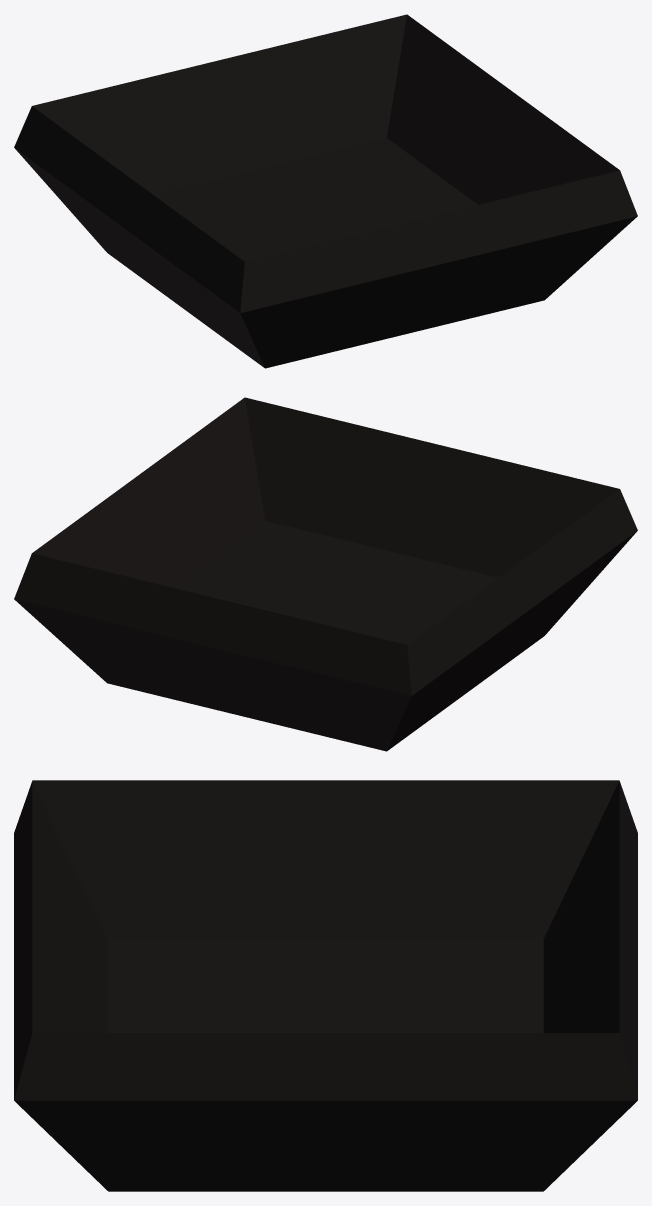
Rendered from soySauceThing.fbx.
The picture shows the model from 3 angles, top to bottom: view 1: azimuth 30°, elevation 25°; view 2: azimuth 150°, elevation 25°; view 3: azimuth 270°, elevation 25°; orthographic projection. The views are drawn at different scales.
Parts seen in each view (by area): view 1: soySauceThing; view 2: soySauceThing; view 3: soySauceThing.
Part boxes in pixels (bbox=[...]): soySauceThing: bbox=[14, 14, 637, 368]; soySauceThing: bbox=[14, 397, 637, 751]; soySauceThing: bbox=[14, 780, 637, 1191].
Size of the model in its own units: 13.72 by 4.57 by 13.52.
Materials: 1 (1 with a texture image).
